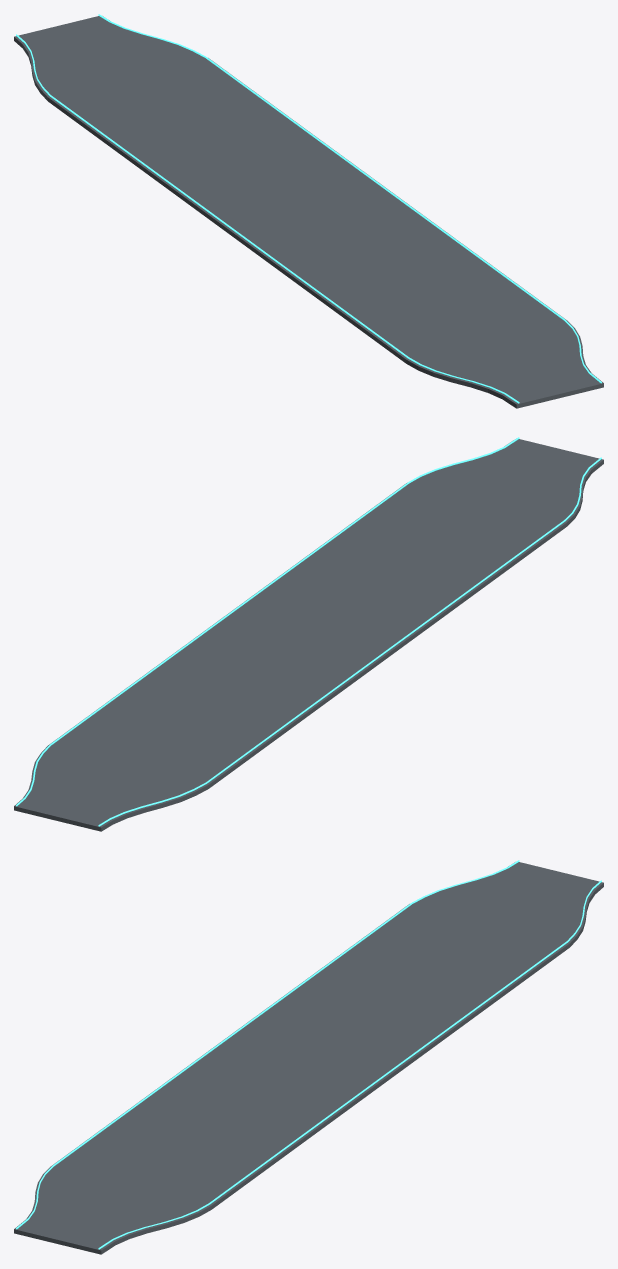
File: Atrium_Lower.glb
3 renders of one model, top to bottom at view 1: azimuth 30°, elevation 25°; view 2: azimuth 150°, elevation 25°; view 3: azimuth 330°, elevation 25°, orthographic.
Parts seen in each view (by area): view 1: Lower_Atrium_Floor, Walkway_edge_light (×2); view 2: Lower_Atrium_Floor, Walkway_edge_light (×2); view 3: Lower_Atrium_Floor, Walkway_edge_light (×2).
Boxes of the visible parts, x1,y1,x2,y2 form: Lower_Atrium_Floor: (14, 16, 603, 408); Walkway_edge_light (×2): (50, 57, 564, 358); Lower_Atrium_Floor: (14, 439, 603, 831); Walkway_edge_light (×2): (50, 482, 564, 783); Lower_Atrium_Floor: (14, 862, 603, 1254); Walkway_edge_light (×2): (53, 903, 567, 1204).
Bounding box in the file's own units: 9.2 × 0.3257 × 49.8.
